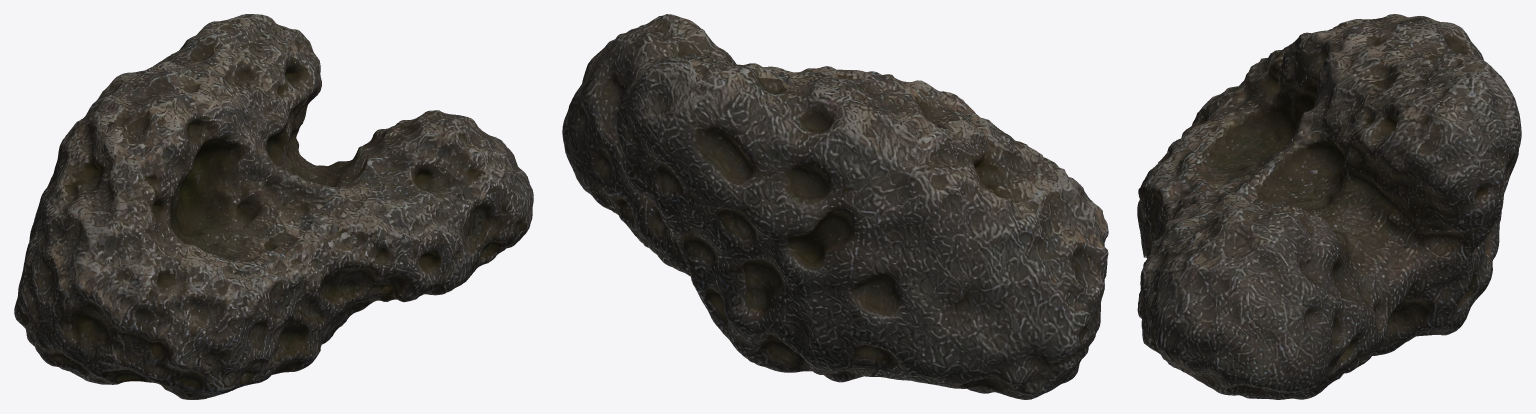
The model's file is asteroid_uncommon_2.glb.
3 renders of one model, left to right at view 1: azimuth 30°, elevation 25°; view 2: azimuth 150°, elevation 25°; view 3: azimuth 270°, elevation 25°, orthographic. The views are drawn at different scales.
Parts seen in each view (by area): view 1: model; view 2: model; view 3: model.
Part boxes in pixels (box(x1,y1,x2,y2)): model: box(14, 14, 533, 399); model: box(562, 14, 1108, 399); model: box(1137, 14, 1521, 399).
Bounding box in the file's own units: 1.89 × 1.04 × 1.15.
1 material, 1 textured.
